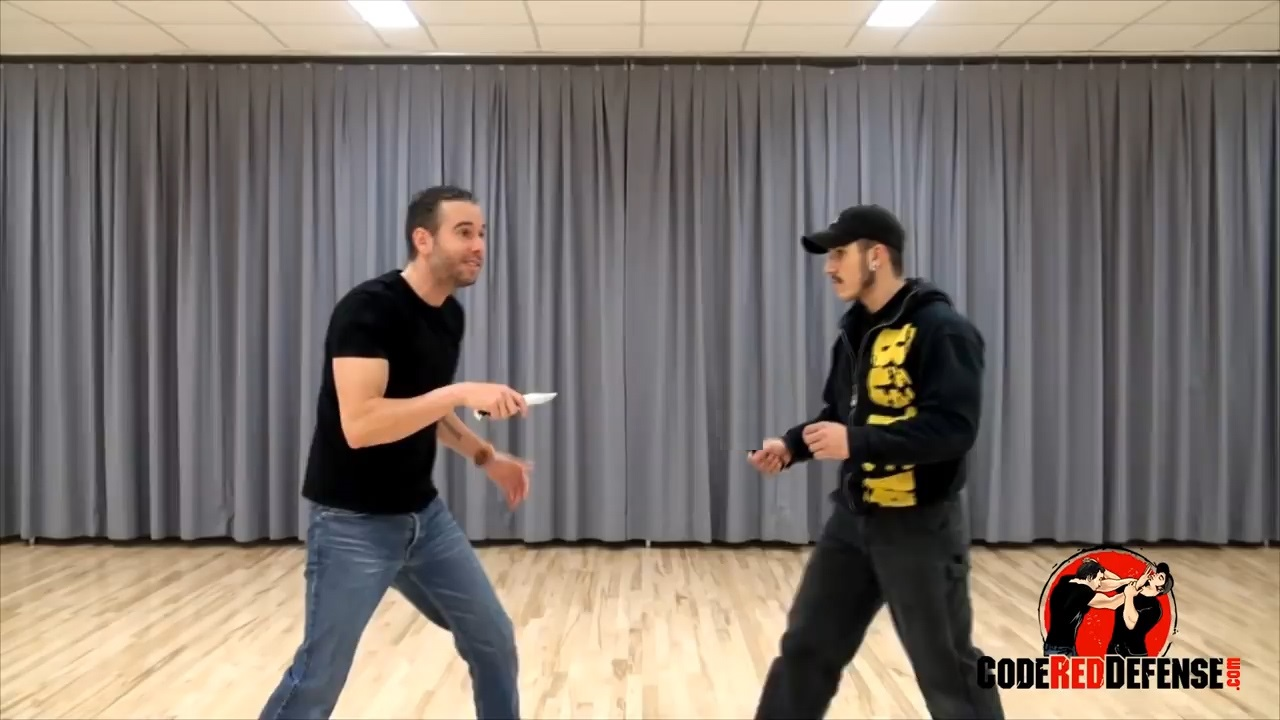knife: (470, 378, 564, 423)
